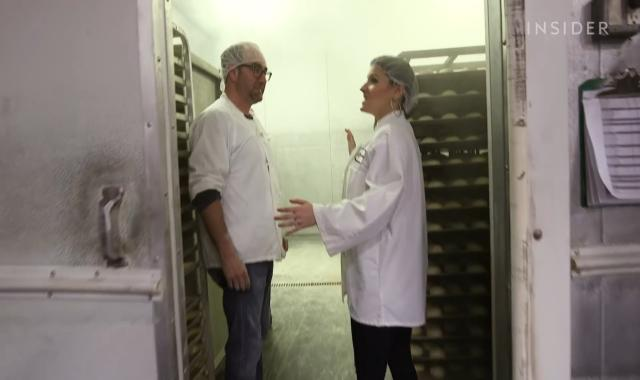hairnet: (371, 50, 418, 111), (217, 38, 268, 78)
